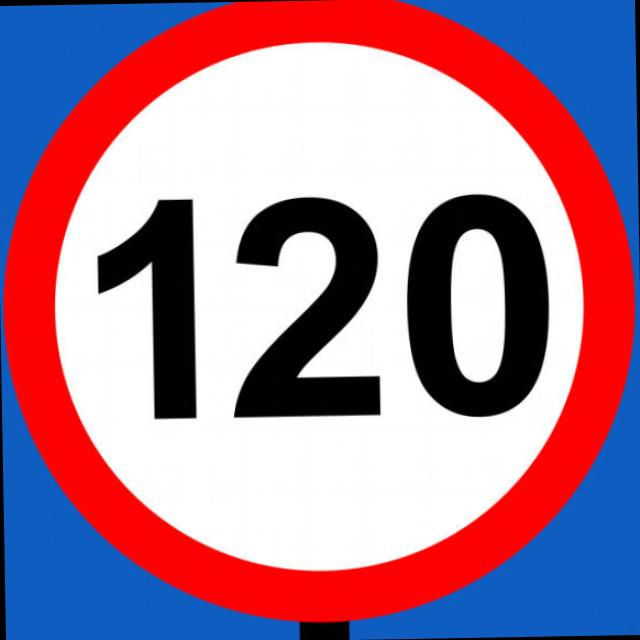speed_limit_120: (1, 0, 639, 631)
